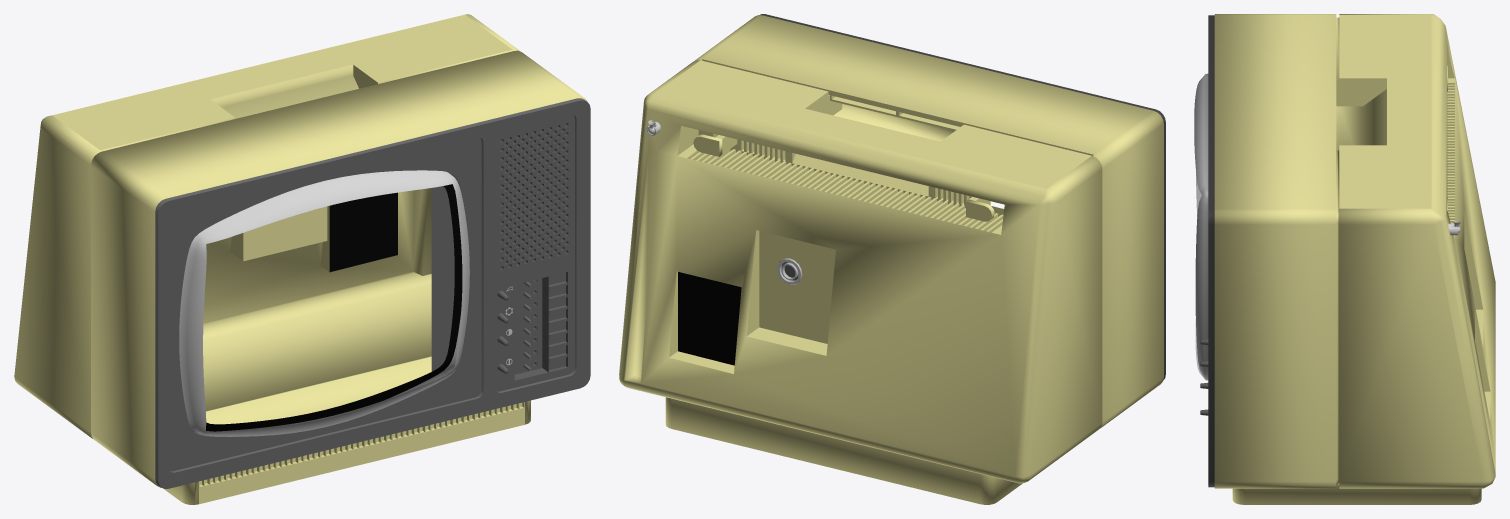
3 renders of one model, left to right at view 1: azimuth 30°, elevation 25°; view 2: azimuth 150°, elevation 25°; view 3: azimuth 270°, elevation 25°, orthographic. The views are drawn at different scales.
Parts seen in each view (by area): view 1: VikendSpecijal_TV; view 2: VikendSpecijal_TV; view 3: VikendSpecijal_TV.
Boxes of the visible parts, x1,y1,x2,y2 form: VikendSpecijal_TV: [14, 14, 590, 504]; VikendSpecijal_TV: [619, 14, 1165, 504]; VikendSpecijal_TV: [1194, 14, 1495, 504].
Bounding box in the file's own units: 1.02 × 0.637 × 0.7258.
